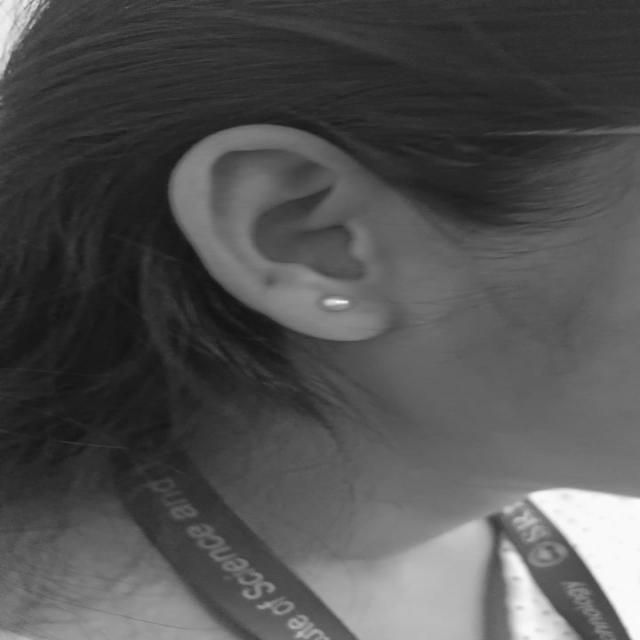ear: (169, 124, 392, 340)
